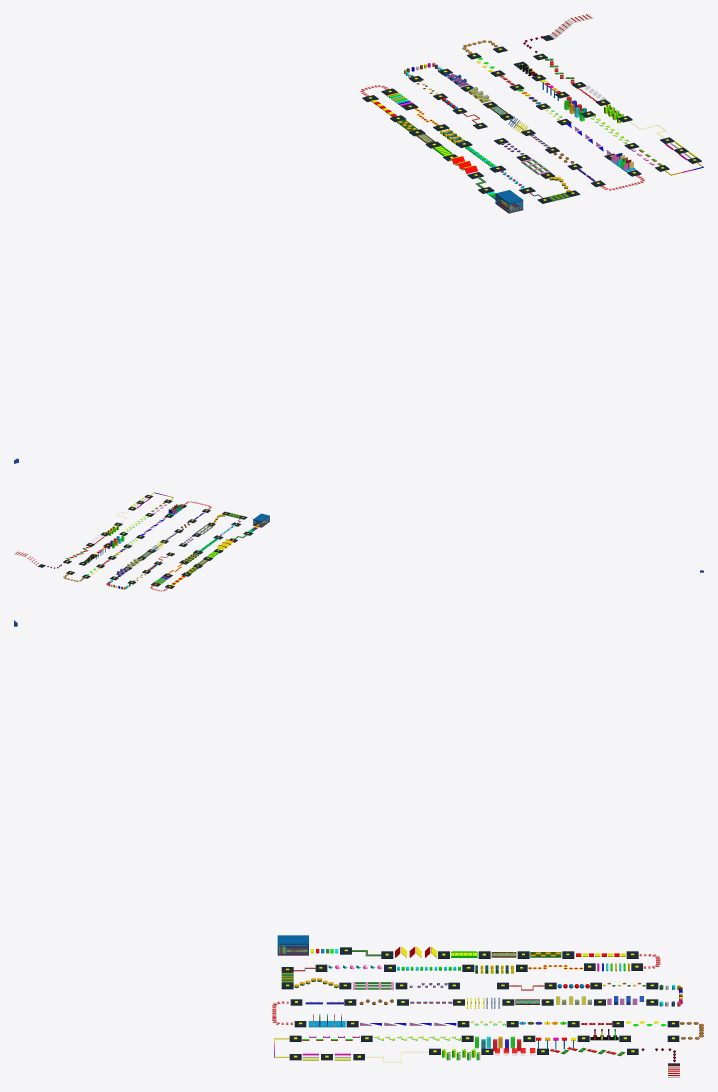
Rendered from Map_1.fbx.
3 renders of one model, top to bottom at view 1: azimuth 30°, elevation 25°; view 2: azimuth 150°, elevation 25°; view 3: azimuth 270°, elevation 25°, orthographic. The views are drawn at different scales.
Bounding box in the file's own units: 188588 × 6570 × 112383.
76 materials, 4 textured.
